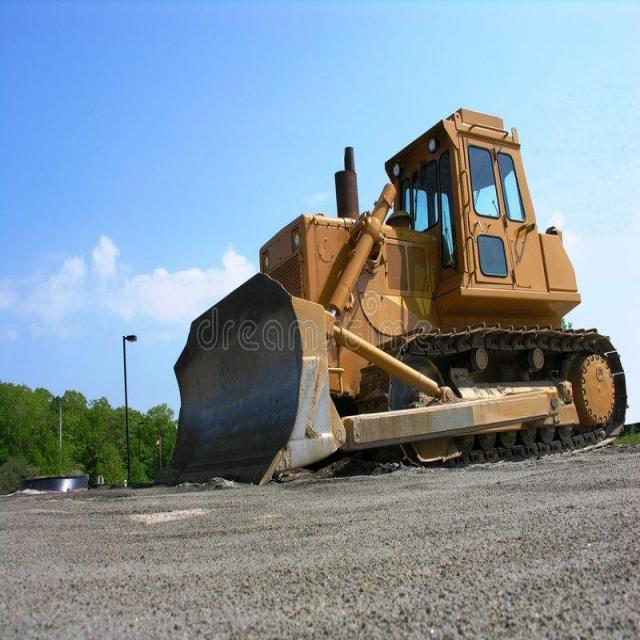Bulldozer: (148, 89, 634, 488)
